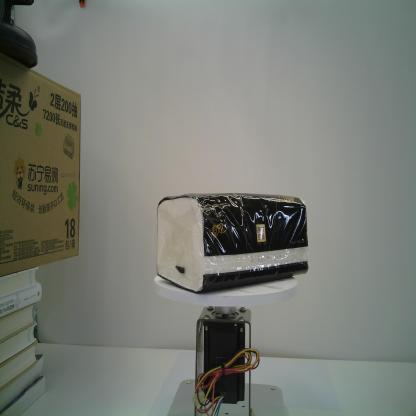Tissue: (156, 193, 309, 295)
